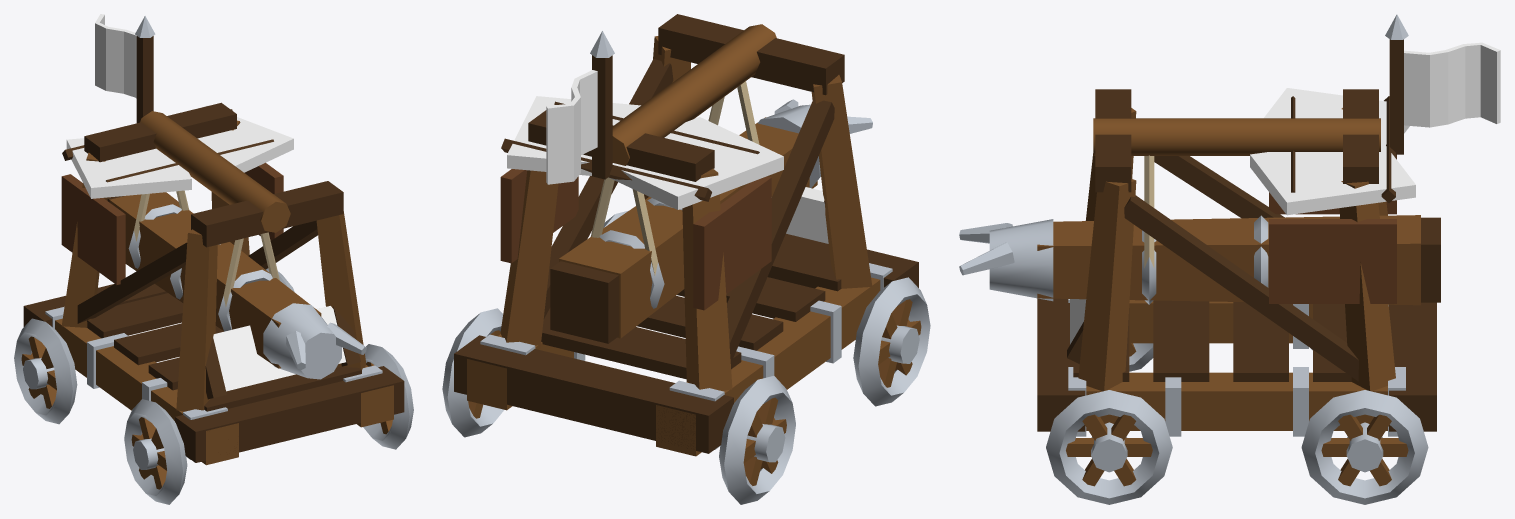
Rendered from Ram_SecondAge.glb.
The picture shows the model from 3 angles, left to right: view 1: azimuth 30°, elevation 25°; view 2: azimuth 150°, elevation 25°; view 3: azimuth 270°, elevation 25°; orthographic projection. The views are drawn at different scales.
Visible parts, largest first — view 1: Dark, Wood, Team, Wheel_Metal, Log_Wood, Log_Metal, Leather, Wheel_Wood, Metal, Log_Rope; view 2: Dark, Wood, Wheel_Metal, Team, Leather, Log_Wood, Log_Dark, Metal, Wheel_Wood, Log_Metal, Log_Rope; view 3: Dark, Wood, Wheel_Metal, Team, Log_Wood, Leather, Log_Metal, Wheel_Wood, Metal, Log_Dark, Log_Rope.
Part boxes in pixels (left/top/right/bottom): Dark: left=23, top=36, right=404, bottom=462; Wood: left=55, top=111, right=393, bottom=465; Team: left=66, top=14, right=345, bottom=391; Wheel_Metal: left=14, top=268, right=413, bottom=504; Log_Wood: left=109, top=192, right=321, bottom=368; Log_Metal: left=128, top=204, right=366, bottom=379; Leather: left=61, top=162, right=283, bottom=284; Wheel_Wood: left=21, top=336, right=392, bottom=489; Metal: left=45, top=16, right=382, bottom=459; Log_Rope: left=134, top=190, right=279, bottom=306; Dark: left=454, top=14, right=918, bottom=453; Wood: left=467, top=24, right=880, bottom=456; Wheel_Metal: left=442, top=210, right=930, bottom=504; Team: left=507, top=70, right=828, bottom=243; Leather: left=500, top=169, right=771, bottom=310; Log_Wood: left=559, top=117, right=817, bottom=338; Log_Dark: left=550, top=261, right=618, bottom=343; Metal: left=480, top=31, right=892, bottom=449; Wheel_Wood: left=468, top=299, right=921, bottom=485; Log_Metal: left=599, top=99, right=872, bottom=308; Log_Rope: left=590, top=81, right=759, bottom=275; Dark: left=1037, top=39, right=1436, bottom=431; Wood: left=1078, top=108, right=1395, bottom=430; Wheel_Metal: left=1046, top=343, right=1428, bottom=504; Team: left=1070, top=42, right=1500, bottom=344; Log_Wood: left=1037, top=215, right=1420, bottom=305; Leather: left=1269, top=154, right=1396, bottom=303; Log_Metal: left=959, top=215, right=1268, bottom=304; Wheel_Wood: left=1066, top=343, right=1408, bottom=486; Metal: left=1068, top=14, right=1408, bottom=436; Log_Dark: left=1421, top=217, right=1440, bottom=302; Log_Rope: left=1144, top=155, right=1154, bottom=267.
Size of the model in its own units: 0.86 by 1.18 by 1.36.
